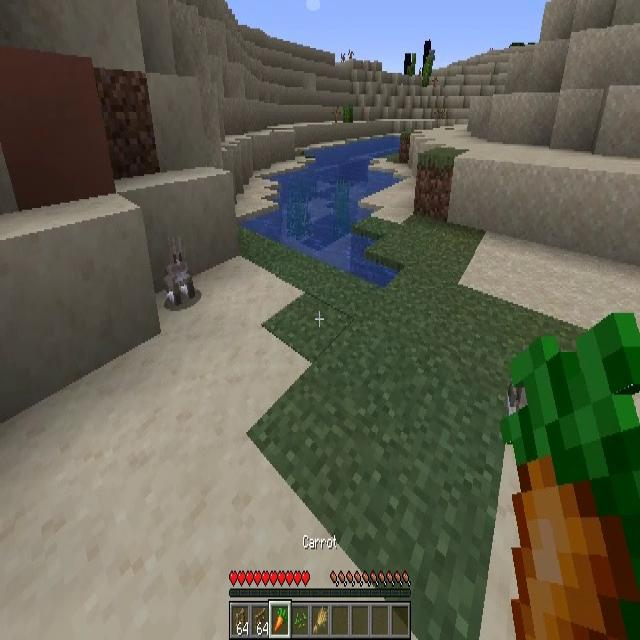rabbit: (165, 236, 195, 309)
